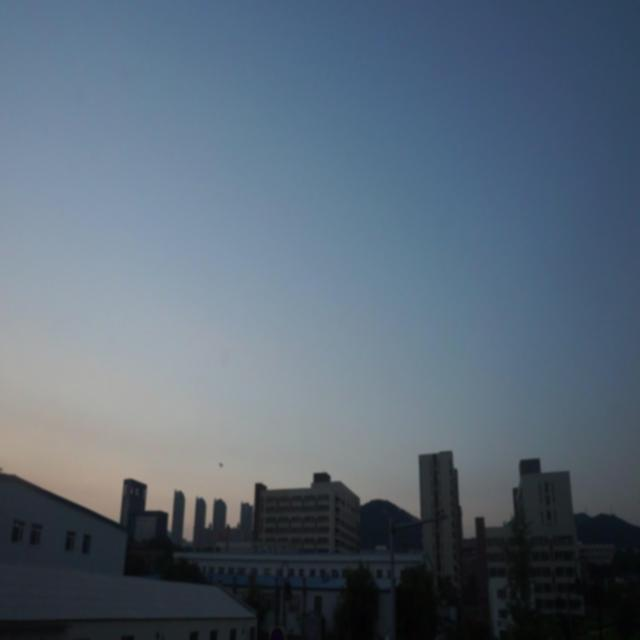UAV: (218, 462, 224, 468)
